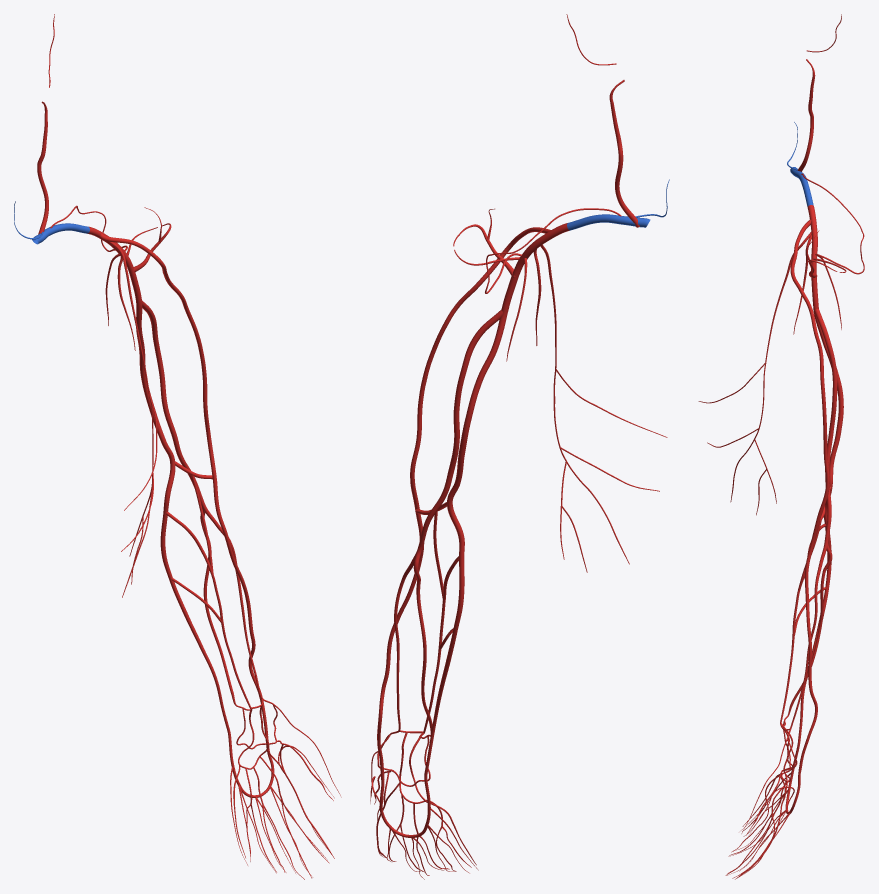
The model's file is circulatorio-left-subclavian-vein.glb.
3 views of the same model, side by side, from view 1: azimuth 30°, elevation 25°; view 2: azimuth 150°, elevation 25°; view 3: azimuth 270°, elevation 25° (orthographic). The views are drawn at different scales.
Visible parts, largest first — view 1: Cephalic vein.l, Basilic vein.l, Palmar digital veins.l, Lateral thoracic vein.l, Dorsal digital veins of hand.l, Brachial veins.l, Median antebrachial vein.l, Ulnar veins.l; view 2: Cephalic vein.l, Basilic vein.l, Brachial veins.l, Lateral thoracic vein.l, Palmar digital veins.l, Axillary vein.l, Ulnar veins.l, Dorsal digital veins of hand.l, Median antebrachial vein.l, External jugular vein.l, Left subclavian vein, Radial veins.l; view 3: Cephalic vein.l, Basilic vein.l, Brachial veins.l, Palmar digital veins.l, Lateral thoracic vein.l, Dorsal digital veins of hand.l, Ulnar veins.l, Axillary vein.l, Median antebrachial vein.l, Radial veins.l, External jugular vein.l.
Boxes of the visible parts, x1,y1,x2,y2 form: Cephalic vein.l: (99, 233, 268, 735); Basilic vein.l: (136, 301, 229, 731); Palmar digital veins.l: (233, 740, 334, 879); Lateral thoracic vein.l: (108, 241, 157, 597); Dorsal digital veins of hand.l: (230, 703, 341, 877); Brachial veins.l: (142, 300, 204, 504); Median antebrachial vein.l: (166, 512, 263, 710); Ulnar veins.l: (200, 503, 250, 710); Cephalic vein.l: (377, 227, 550, 780); Basilic vein.l: (424, 311, 507, 774); Brachial veins.l: (419, 309, 502, 546); Lateral thoracic vein.l: (540, 244, 667, 572); Palmar digital veins.l: (374, 769, 476, 875); Axillary vein.l: (501, 223, 569, 312); Ulnar veins.l: (413, 545, 432, 738); Dorsal digital veins of hand.l: (370, 733, 478, 879); Median antebrachial vein.l: (399, 556, 458, 736); External jugular vein.l: (609, 96, 639, 227); Left subclavian vein: (567, 214, 650, 230); Radial veins.l: (390, 546, 422, 734); Cephalic vein.l: (790, 219, 829, 771); Basilic vein.l: (798, 309, 843, 741); Brachial veins.l: (814, 309, 837, 540); Palmar digital veins.l: (725, 770, 790, 879); Lateral thoracic vein.l: (698, 231, 811, 515); Dorsal digital veins of hand.l: (726, 737, 794, 877); Ulnar veins.l: (783, 540, 832, 726); Axillary vein.l: (807, 205, 818, 309); Median antebrachial vein.l: (780, 523, 826, 730); Radial veins.l: (787, 540, 827, 737); External jugular vein.l: (797, 74, 815, 171).
Size of the model in its own units: 0.3275 by 0.911 by 0.1769.
